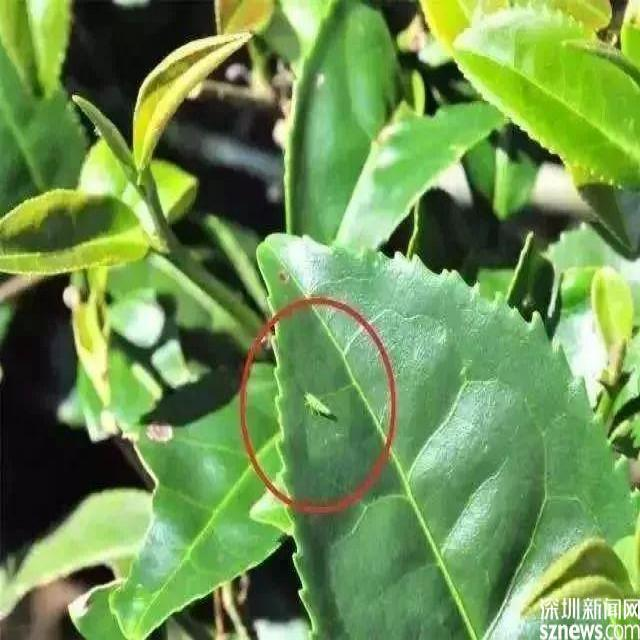Yechan: (302, 388, 339, 426)
